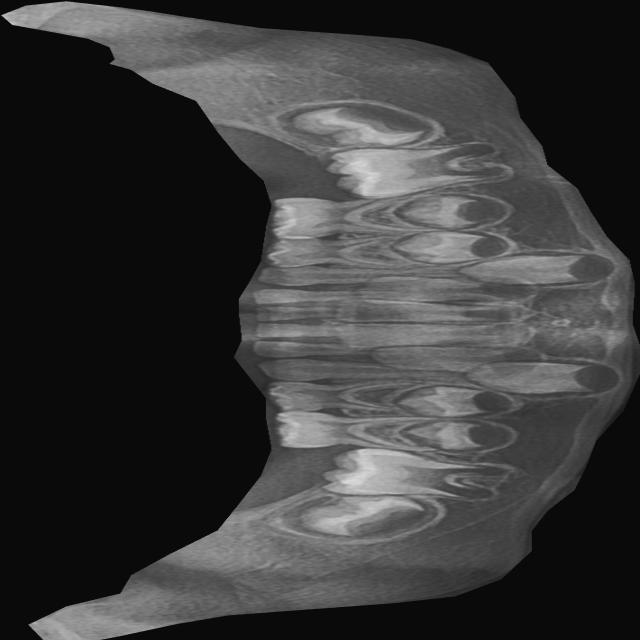mandibula: (1, 0, 640, 640)
